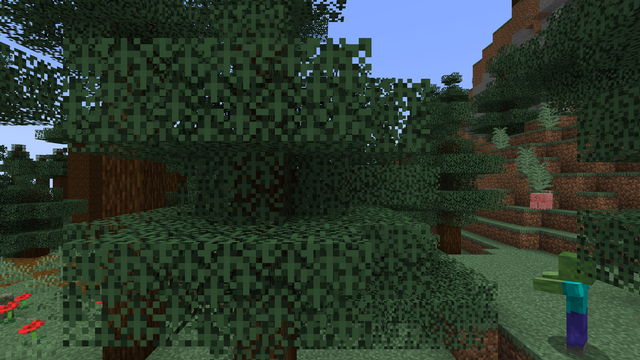cochons: (527, 192, 556, 209)
zombies: (550, 254, 606, 358)
